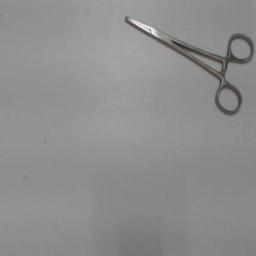Mayo Needle Holder: (118, 9, 256, 121)
